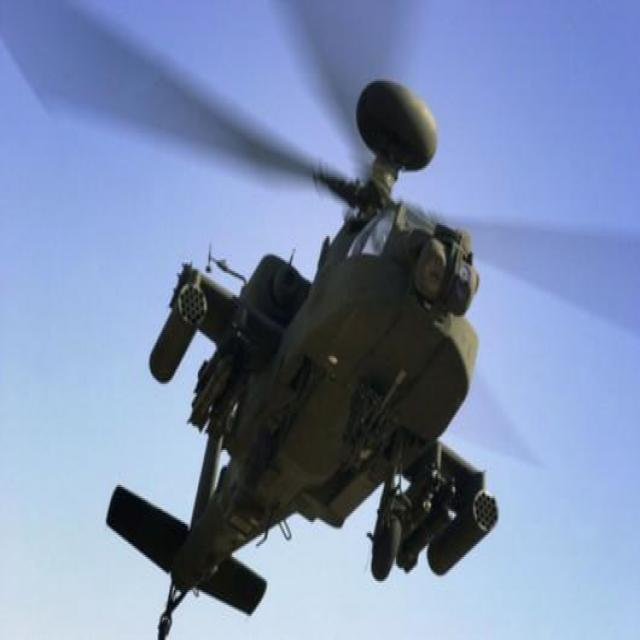MIL_HELO: (7, 0, 611, 640)
